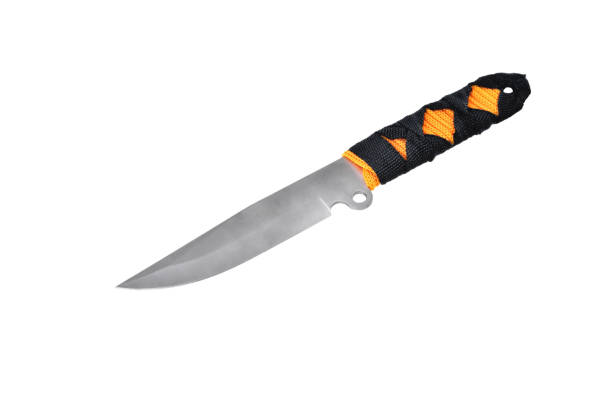knife: (114, 71, 533, 291)
